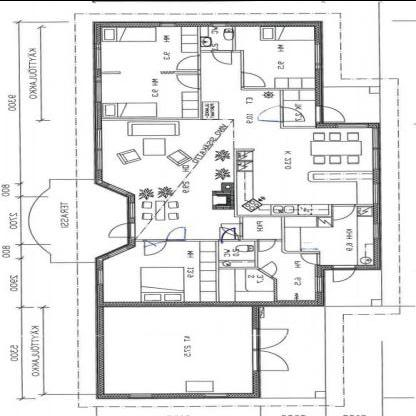door: (246, 325, 292, 375), (256, 102, 308, 125), (313, 103, 349, 124), (173, 71, 205, 91), (330, 201, 358, 223), (330, 261, 358, 283), (239, 70, 271, 89), (104, 220, 134, 240), (173, 52, 203, 71), (142, 236, 169, 256), (163, 225, 190, 244), (211, 45, 235, 65), (256, 258, 278, 278), (255, 235, 279, 251)
window: (91, 124, 106, 172), (310, 40, 327, 72), (90, 74, 107, 105), (107, 242, 134, 260), (92, 38, 106, 70), (103, 182, 135, 196), (367, 181, 384, 206), (123, 389, 157, 401), (367, 148, 383, 172), (91, 265, 108, 287), (309, 273, 327, 293), (370, 220, 384, 244), (201, 389, 233, 399), (125, 199, 141, 219), (369, 124, 381, 148), (209, 17, 227, 27), (156, 20, 176, 28)
